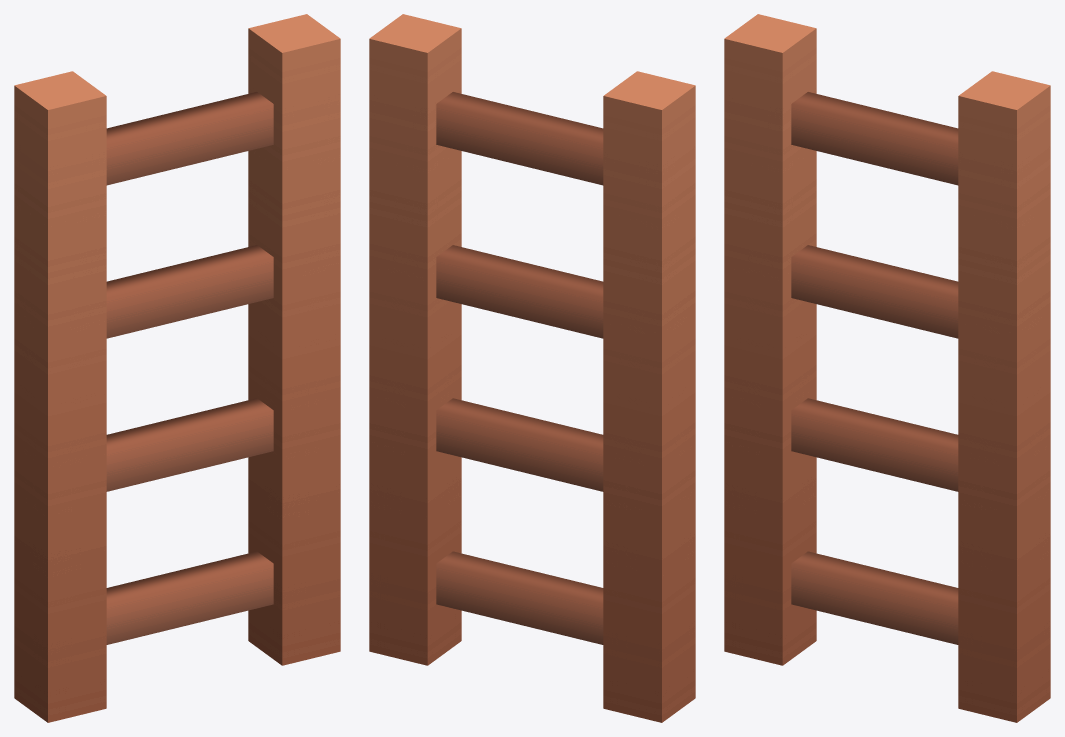
Rendered from ladder.glb.
3 views of the same model, side by side, from view 1: azimuth 30°, elevation 25°; view 2: azimuth 150°, elevation 25°; view 3: azimuth 330°, elevation 25° (orthographic).
Parts seen in each view (by area): view 1: ladder; view 2: ladder; view 3: ladder.
Boxes of the visible parts, bbox=[...] form: ladder: bbox=[14, 14, 340, 722]; ladder: bbox=[369, 14, 695, 722]; ladder: bbox=[724, 14, 1050, 722].
Bounding box in the file's own units: 0.5 × 1 × 0.1.
Materials: 1 (1 with a texture image).
